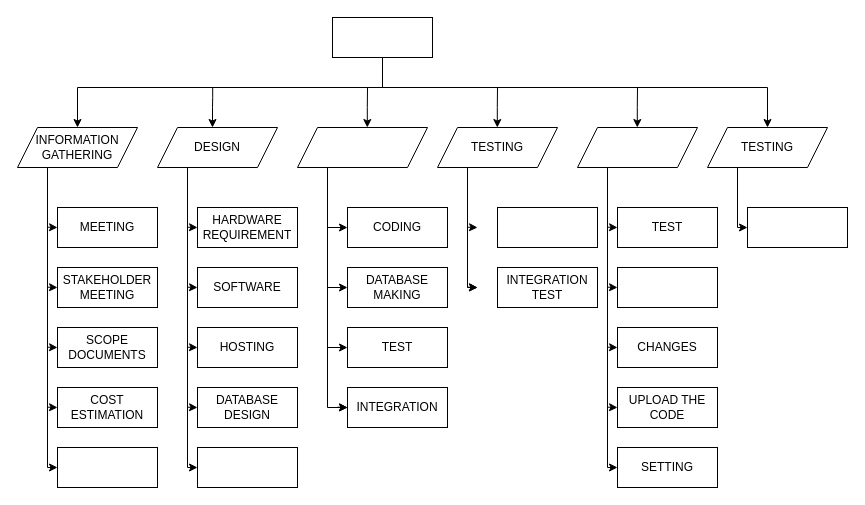
The diagram is 865 pixels wide and 505 high, and some of its shapes have lost their labels. Each missing label, with the box of its shape:
ABC_JOBS: (332, 16, 432, 58)
DEPLOYMENT: (576, 126, 698, 168)
DESIGN SOFTWARE: (196, 446, 298, 488)
FINAL DOCUMENTS: (746, 206, 848, 248)
IMPLEMENTATION: (296, 126, 428, 168)
RESOURCES: (56, 446, 158, 488)
TEST RESULTS: (616, 266, 718, 308)
UNIT TEST: (496, 206, 598, 248)
